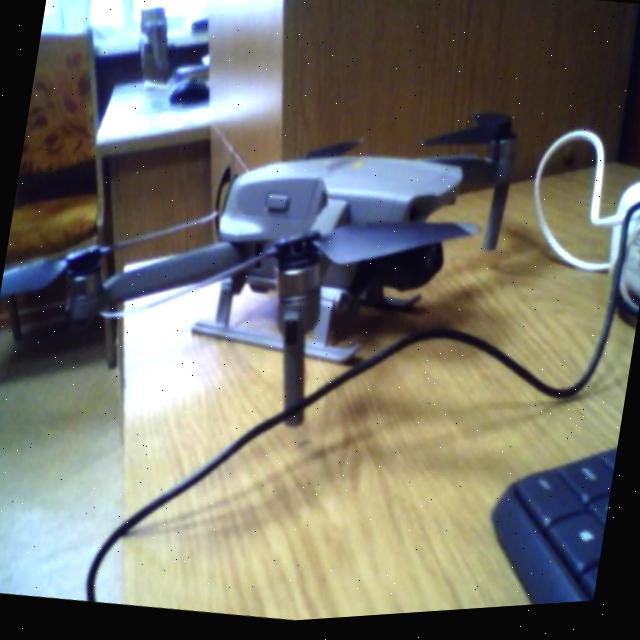drone: (0, 41, 567, 482)
